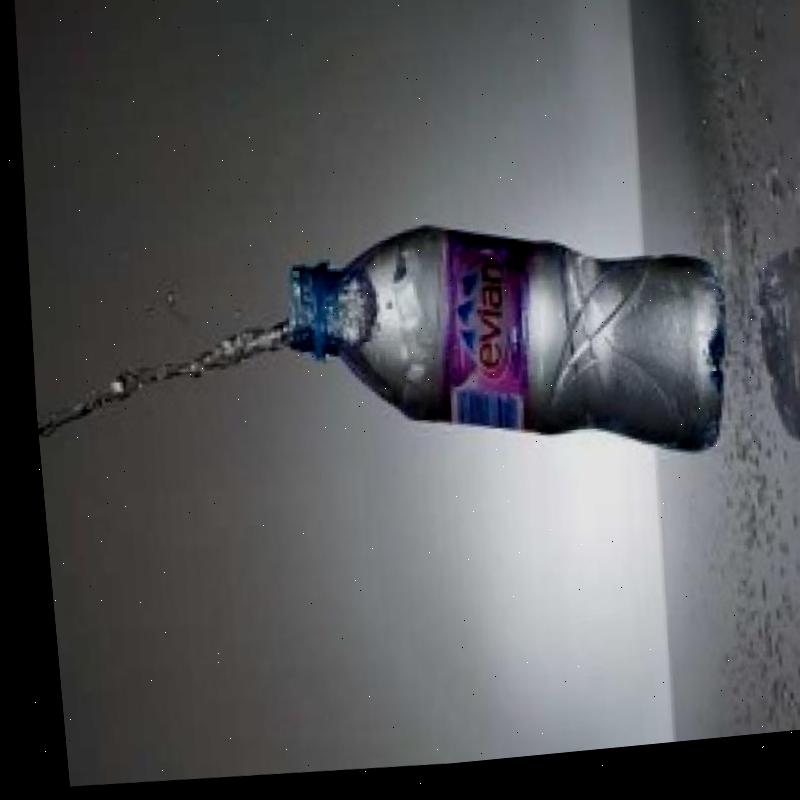botella: (273, 200, 730, 493)
